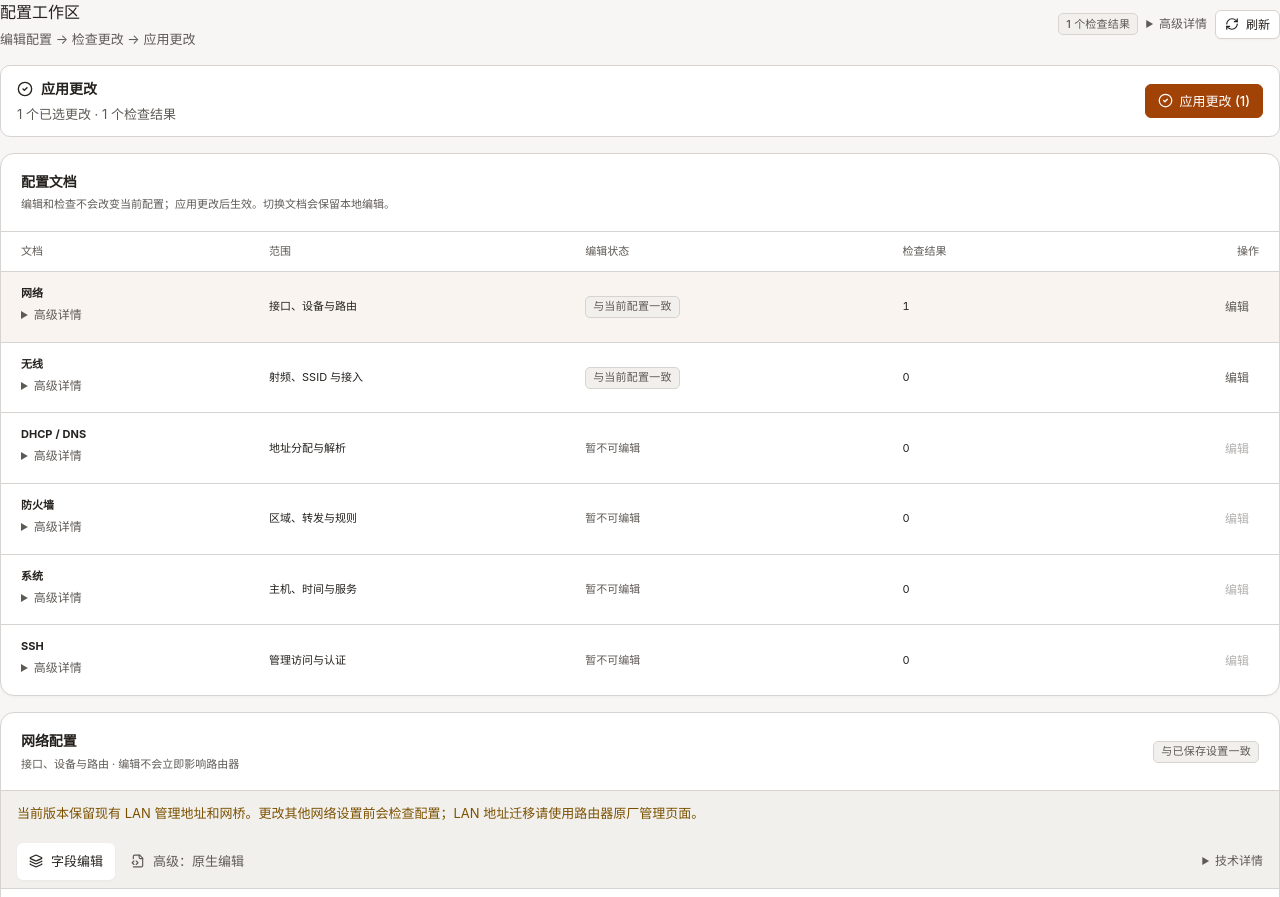
Test: FullControl configuration › shows capture-disabled Commit guidance without claiming saved device selection was erased
What coordinates should you click on to do the following:
click the button with aria-label "应用已选更改 (1)"
I would click on:
 (1204, 101)
Its box is [1144, 84, 1263, 118].
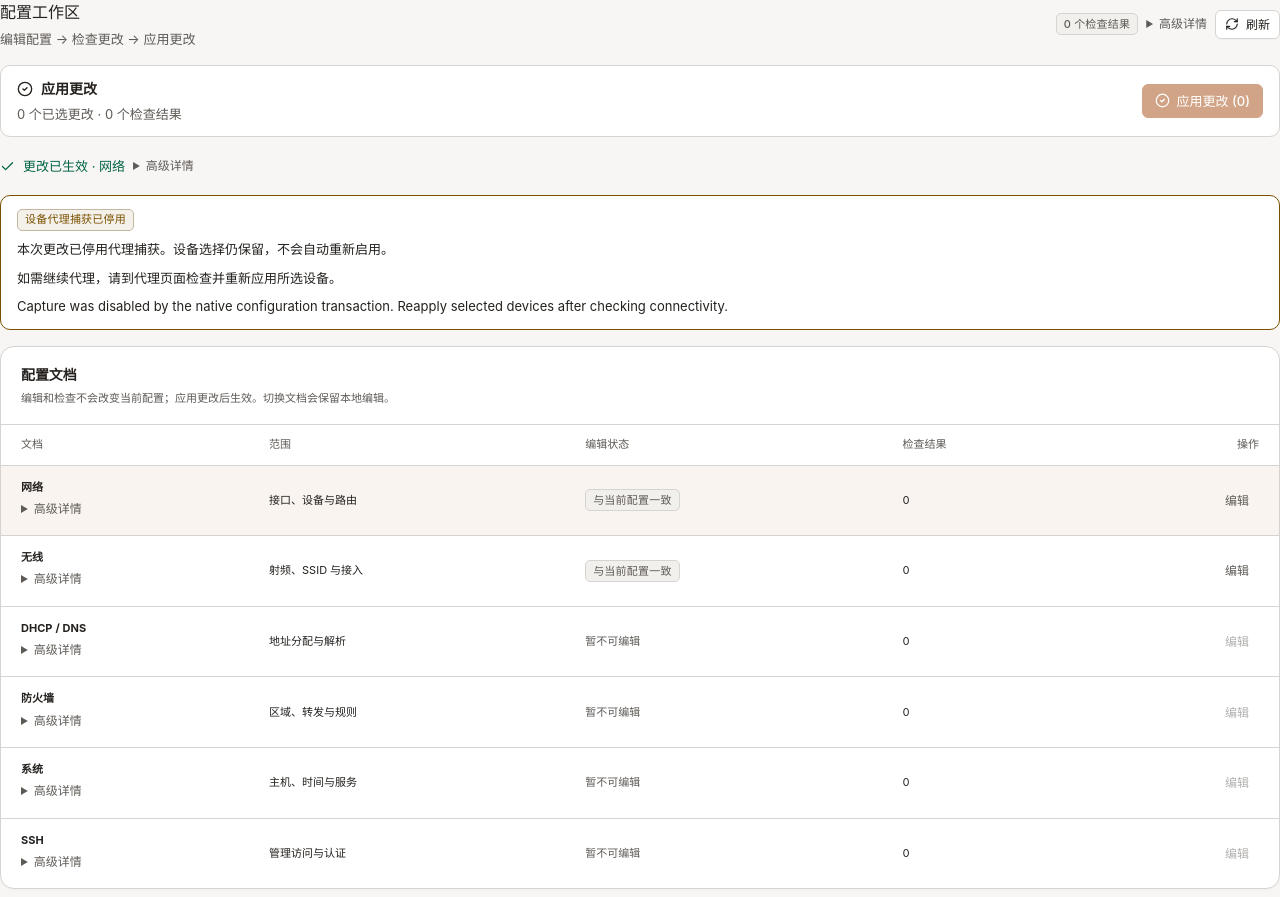
Expected: the text "更改已生效 · 网络" is shown, [23, 156, 125, 176]
Expected: the message named "配置应用提示" shows "设备代理捕获已停用", [25, 212, 126, 226]
Expected: the message named "配置应用提示" shows "设备选择仍保留，不会自动重新启用", [17, 241, 394, 257]
